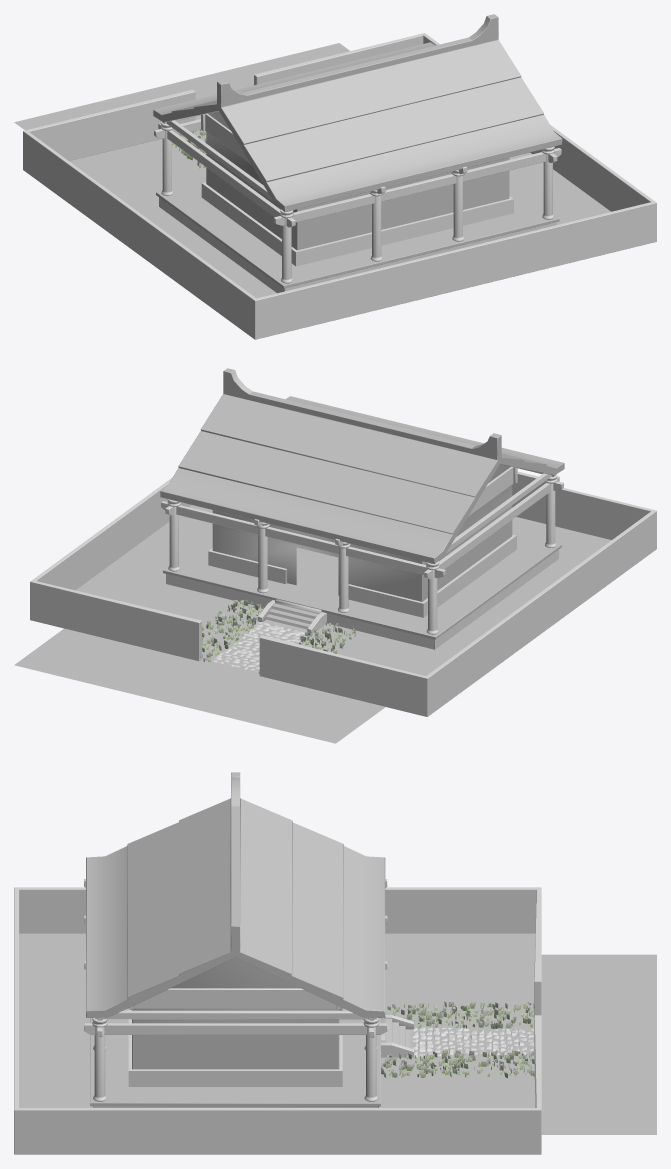
The model's file is Exterior.fbx.
The picture shows the model from 3 angles, top to bottom: view 1: azimuth 30°, elevation 25°; view 2: azimuth 150°, elevation 25°; view 3: azimuth 270°, elevation 25°; orthographic projection. The views are drawn at different scales.
Parts seen in each view (by area): view 1: Roof, Outer Walls, House Base, Garden.001, Walls, Column Structure, Stone Base, Road, Pillars; view 2: Roof, Outer Walls, Garden.001, Road, House Base, Walls, Column Structure, Stone Base, Pillars, Garden, Stone Path, Stairs.001; view 3: Roof, Outer Walls, Garden.001, Road, Walls, Column Structure, House Base, Garden, Stone Base, Stone Path, Pillars, Stairs.001 (+1 smaller).
Boxes of the visible parts, bbox=[...] form: Roof: bbox=[153, 14, 562, 211]; Outer Walls: bbox=[23, 33, 656, 339]; House Base: bbox=[156, 180, 559, 293]; Garden.001: bbox=[69, 130, 610, 298]; Walls: bbox=[206, 111, 509, 250]; Column Structure: bbox=[154, 113, 561, 227]; Stone Base: bbox=[201, 182, 513, 266]; Road: bbox=[14, 43, 349, 130]; Pillars: bbox=[161, 130, 554, 283]; Roof: bbox=[160, 368, 564, 563]; Outer Walls: bbox=[30, 477, 656, 716]; Garden.001: bbox=[76, 505, 611, 675]; Road: bbox=[14, 628, 385, 743]; House Base: bbox=[163, 532, 561, 649]; Walls: bbox=[212, 464, 512, 601]; Column Structure: bbox=[161, 466, 563, 579]; Stone Base: bbox=[208, 534, 516, 617]; Pillars: bbox=[168, 483, 556, 634]; Garden: bbox=[200, 600, 356, 673]; Stone Path: bbox=[213, 621, 306, 671]; Stairs.001: bbox=[263, 599, 321, 632]; Roof: bbox=[86, 772, 385, 1017]; Outer Walls: bbox=[14, 887, 541, 1154]; Garden.001: bbox=[19, 933, 535, 1107]; Road: bbox=[541, 954, 656, 1134]; Walls: bbox=[132, 958, 339, 1069]; Column Structure: bbox=[84, 879, 387, 1037]; House Base: bbox=[90, 1008, 380, 1107]; Garden: bbox=[381, 1001, 534, 1078]; Stone Base: bbox=[128, 1008, 342, 1086]; Stone Path: bbox=[412, 1027, 533, 1057]; Pillars: bbox=[93, 1027, 378, 1101]; Stairs.001: bbox=[381, 1018, 412, 1048].
Bounding box in the file's own units: 14.77 × 18.01 × 6.04.
